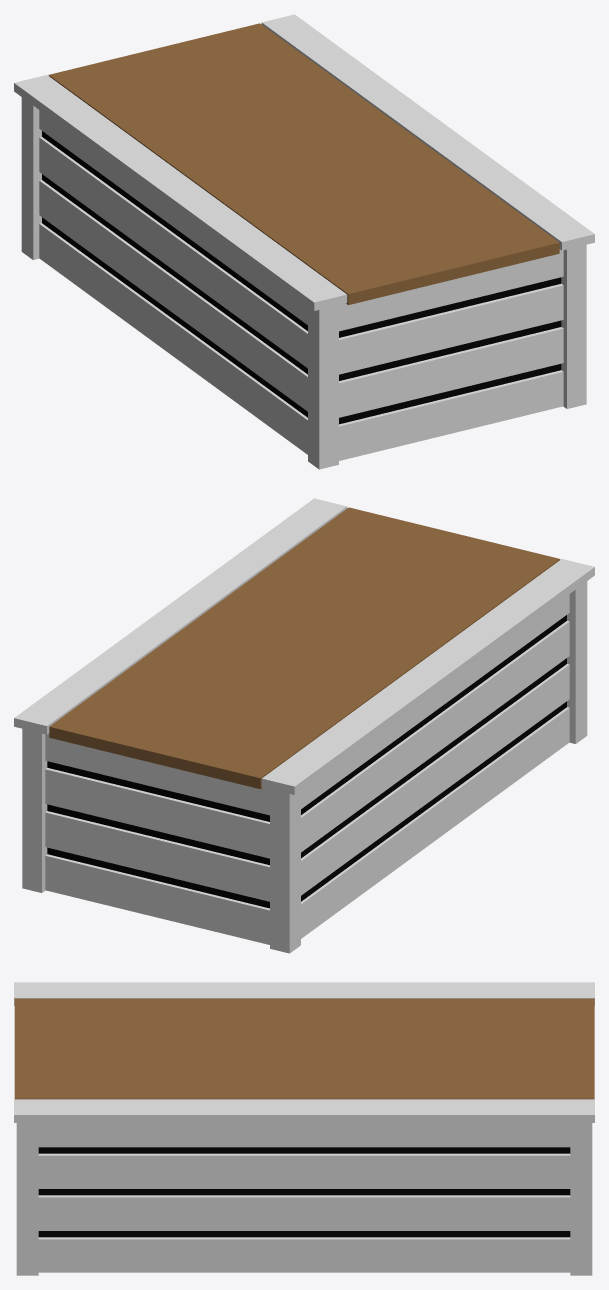
The model's file is LootBox.fbx.
3 views of the same model, one above another, from view 1: azimuth 30°, elevation 25°; view 2: azimuth 150°, elevation 25°; view 3: azimuth 270°, elevation 25° (orthographic). The views are drawn at different scales.
Visible parts, largest first — view 1: Cube, Cube.001; view 2: Cube, Cube.001; view 3: Cube, Cube.001.
Part boxes in pixels (<box>): Cube: <box>14,14,594,469</box>; Cube.001: <box>42,23,561,424</box>; Cube: <box>14,498,594,953</box>; Cube.001: <box>47,507,566,908</box>; Cube: <box>14,982,594,1275</box>; Cube.001: <box>14,998,594,1237</box>.
Bounding box in the file's own units: 340 × 196 × 630.
